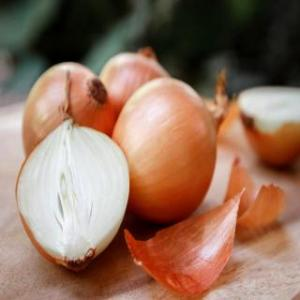onion: (15, 122, 127, 270), (112, 76, 219, 224), (22, 60, 110, 174), (99, 54, 176, 128), (236, 84, 300, 168)
